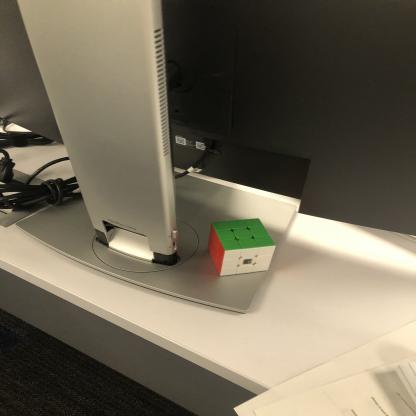SolvedCube: (205, 215, 278, 277)
